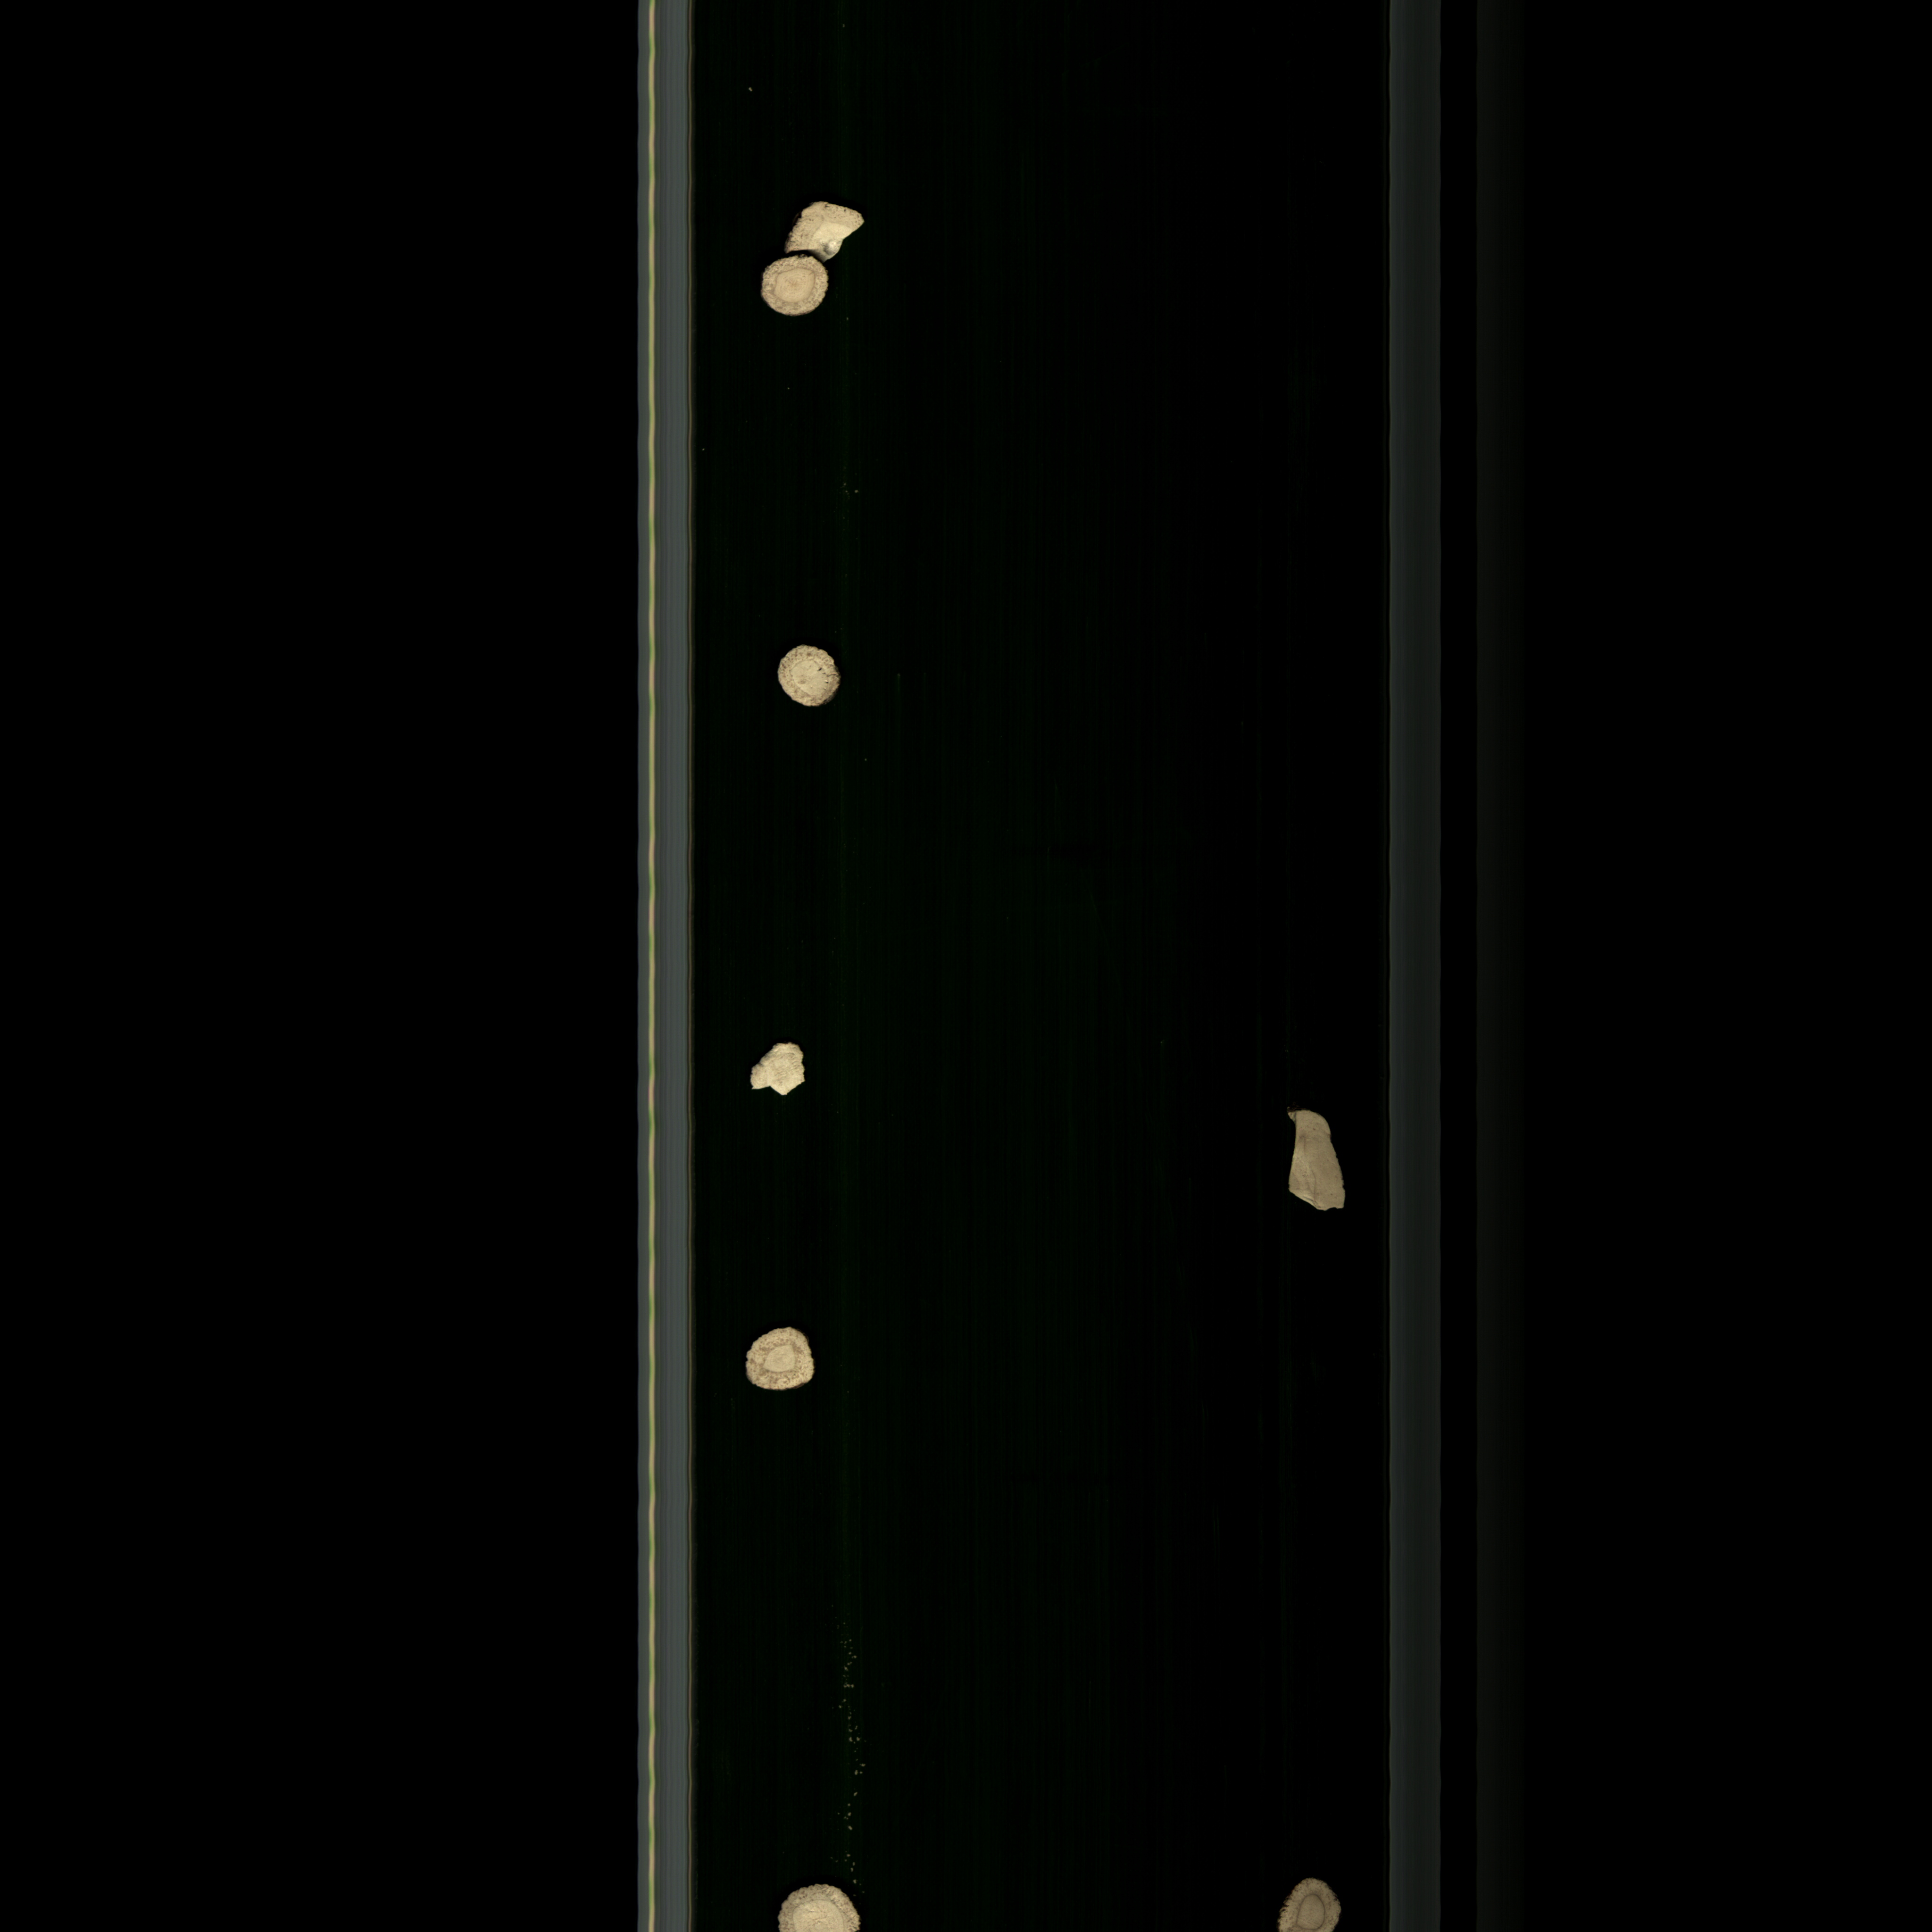debris: (1272, 1099, 1355, 1237), (778, 186, 883, 262)
dreg: (745, 1033, 823, 1109)
moldy: (1267, 1867, 1350, 1932)
